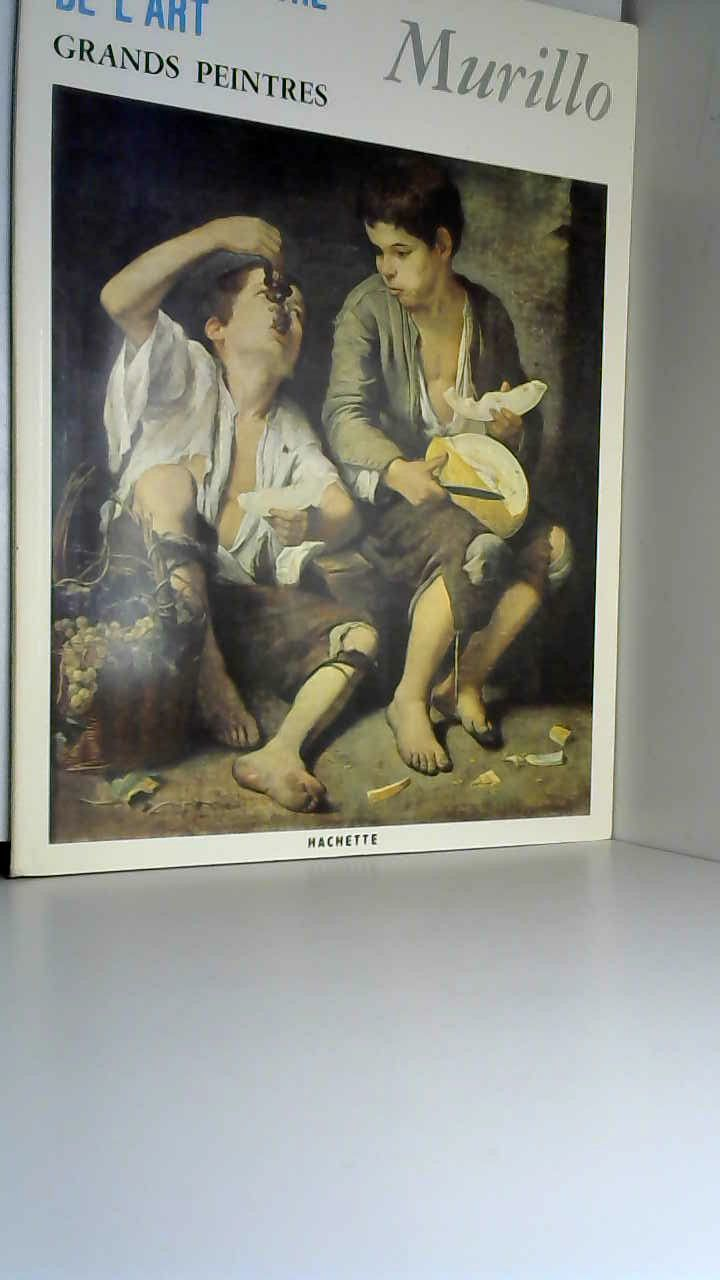book: (0, 0, 720, 899)
